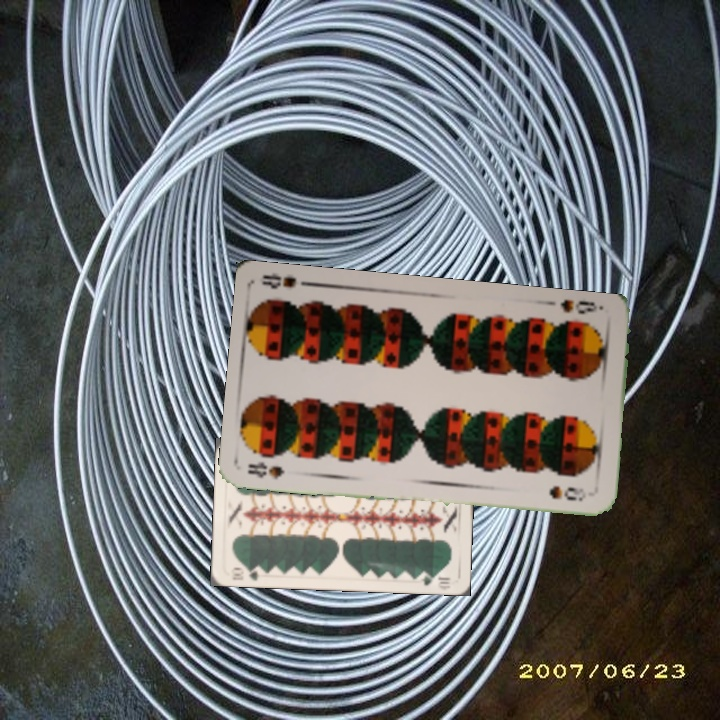G10: (227, 563, 266, 583)
S8: (243, 458, 287, 482), (556, 296, 606, 317)
